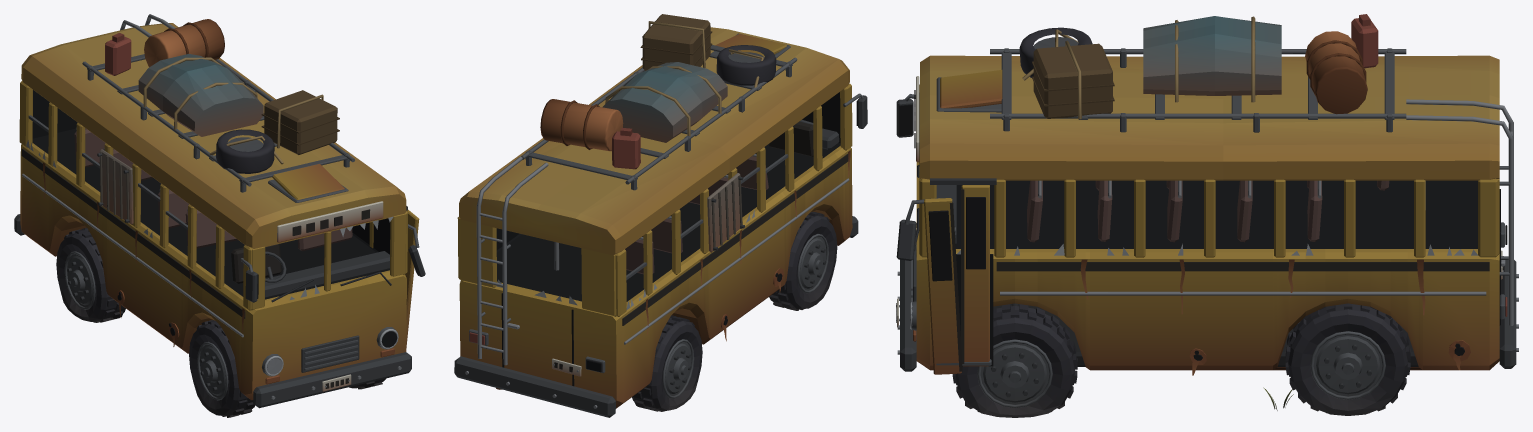
The model's file is abandoned_bus.glb.
3 renders of one model, left to right at view 1: azimuth 30°, elevation 25°; view 2: azimuth 150°, elevation 25°; view 3: azimuth 270°, elevation 25°, orthographic. The views are drawn at different scales.
Visible parts, largest first — view 1: abandoned_bus; view 2: abandoned_bus; view 3: abandoned_bus.
Part boxes in pixels (<box>): abandoned_bus: <box>14,14,425,417</box>; abandoned_bus: <box>454,14,867,417</box>; abandoned_bus: <box>896,14,1518,417</box>.
Bounding box in the file's own units: 1.42 × 2.02 × 3.37.
